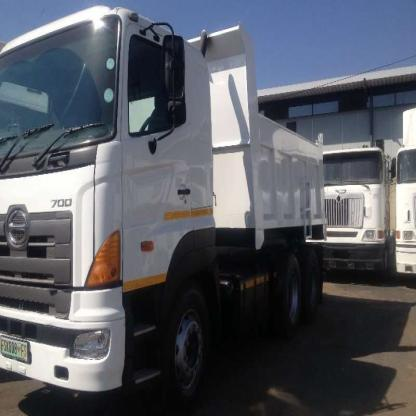dump_truck: (8, 5, 325, 406), (319, 123, 398, 299), (400, 92, 416, 305)
